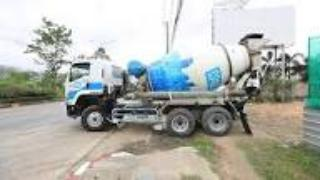cement_mixer_truck: (62, 41, 265, 136)
